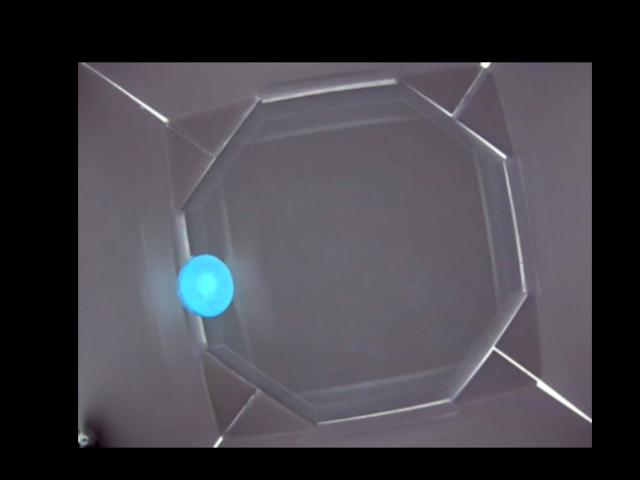Carrot: (178, 254, 235, 315)
